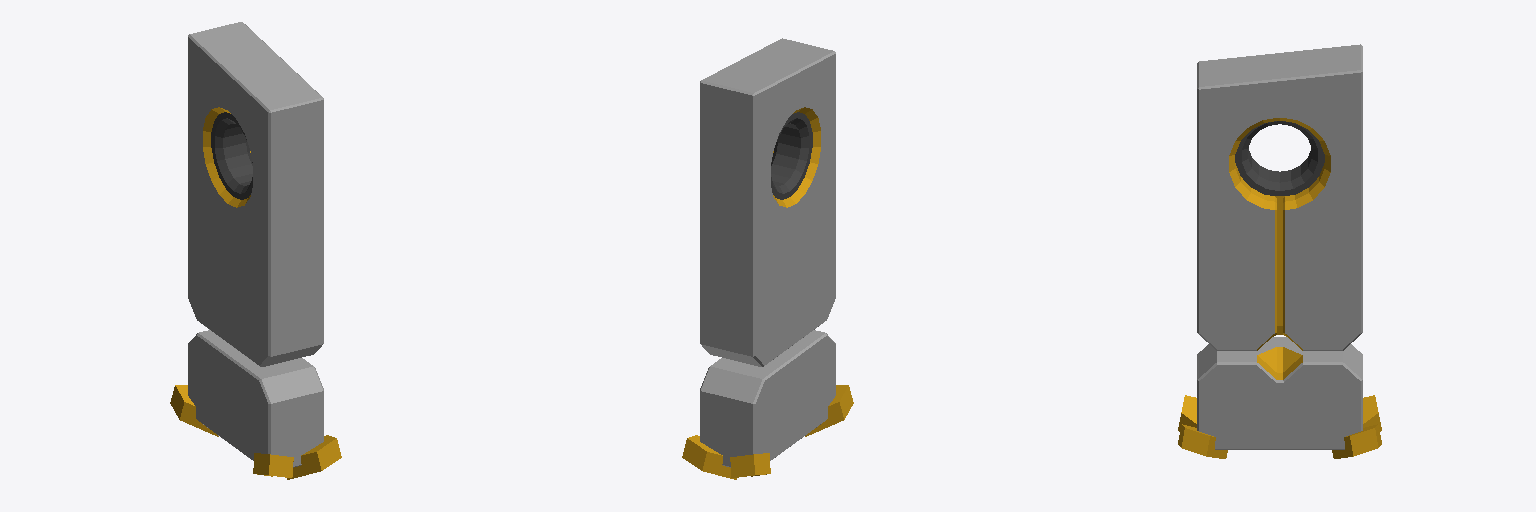
The model's file is Tower4Laser0.obj.
3 renders of one model, left to right at view 1: azimuth 30°, elevation 25°; view 2: azimuth 150°, elevation 25°; view 3: azimuth 270°, elevation 25°, orthographic.
Visible parts, largest first — view 1: Default.1, Group; view 2: Default.1, Group; view 3: Default.1, Group.
Part boxes in pixels (bbox=[...]): Default.1: bbox=[188, 22, 323, 366]; Group: bbox=[170, 330, 341, 479]; Default.1: bbox=[700, 38, 835, 366]; Group: bbox=[682, 330, 853, 479]; Default.1: bbox=[1197, 44, 1362, 350]; Group: bbox=[1178, 337, 1381, 458].
Size of the model in its own units: 11.49 by 55.06 by 25.68.